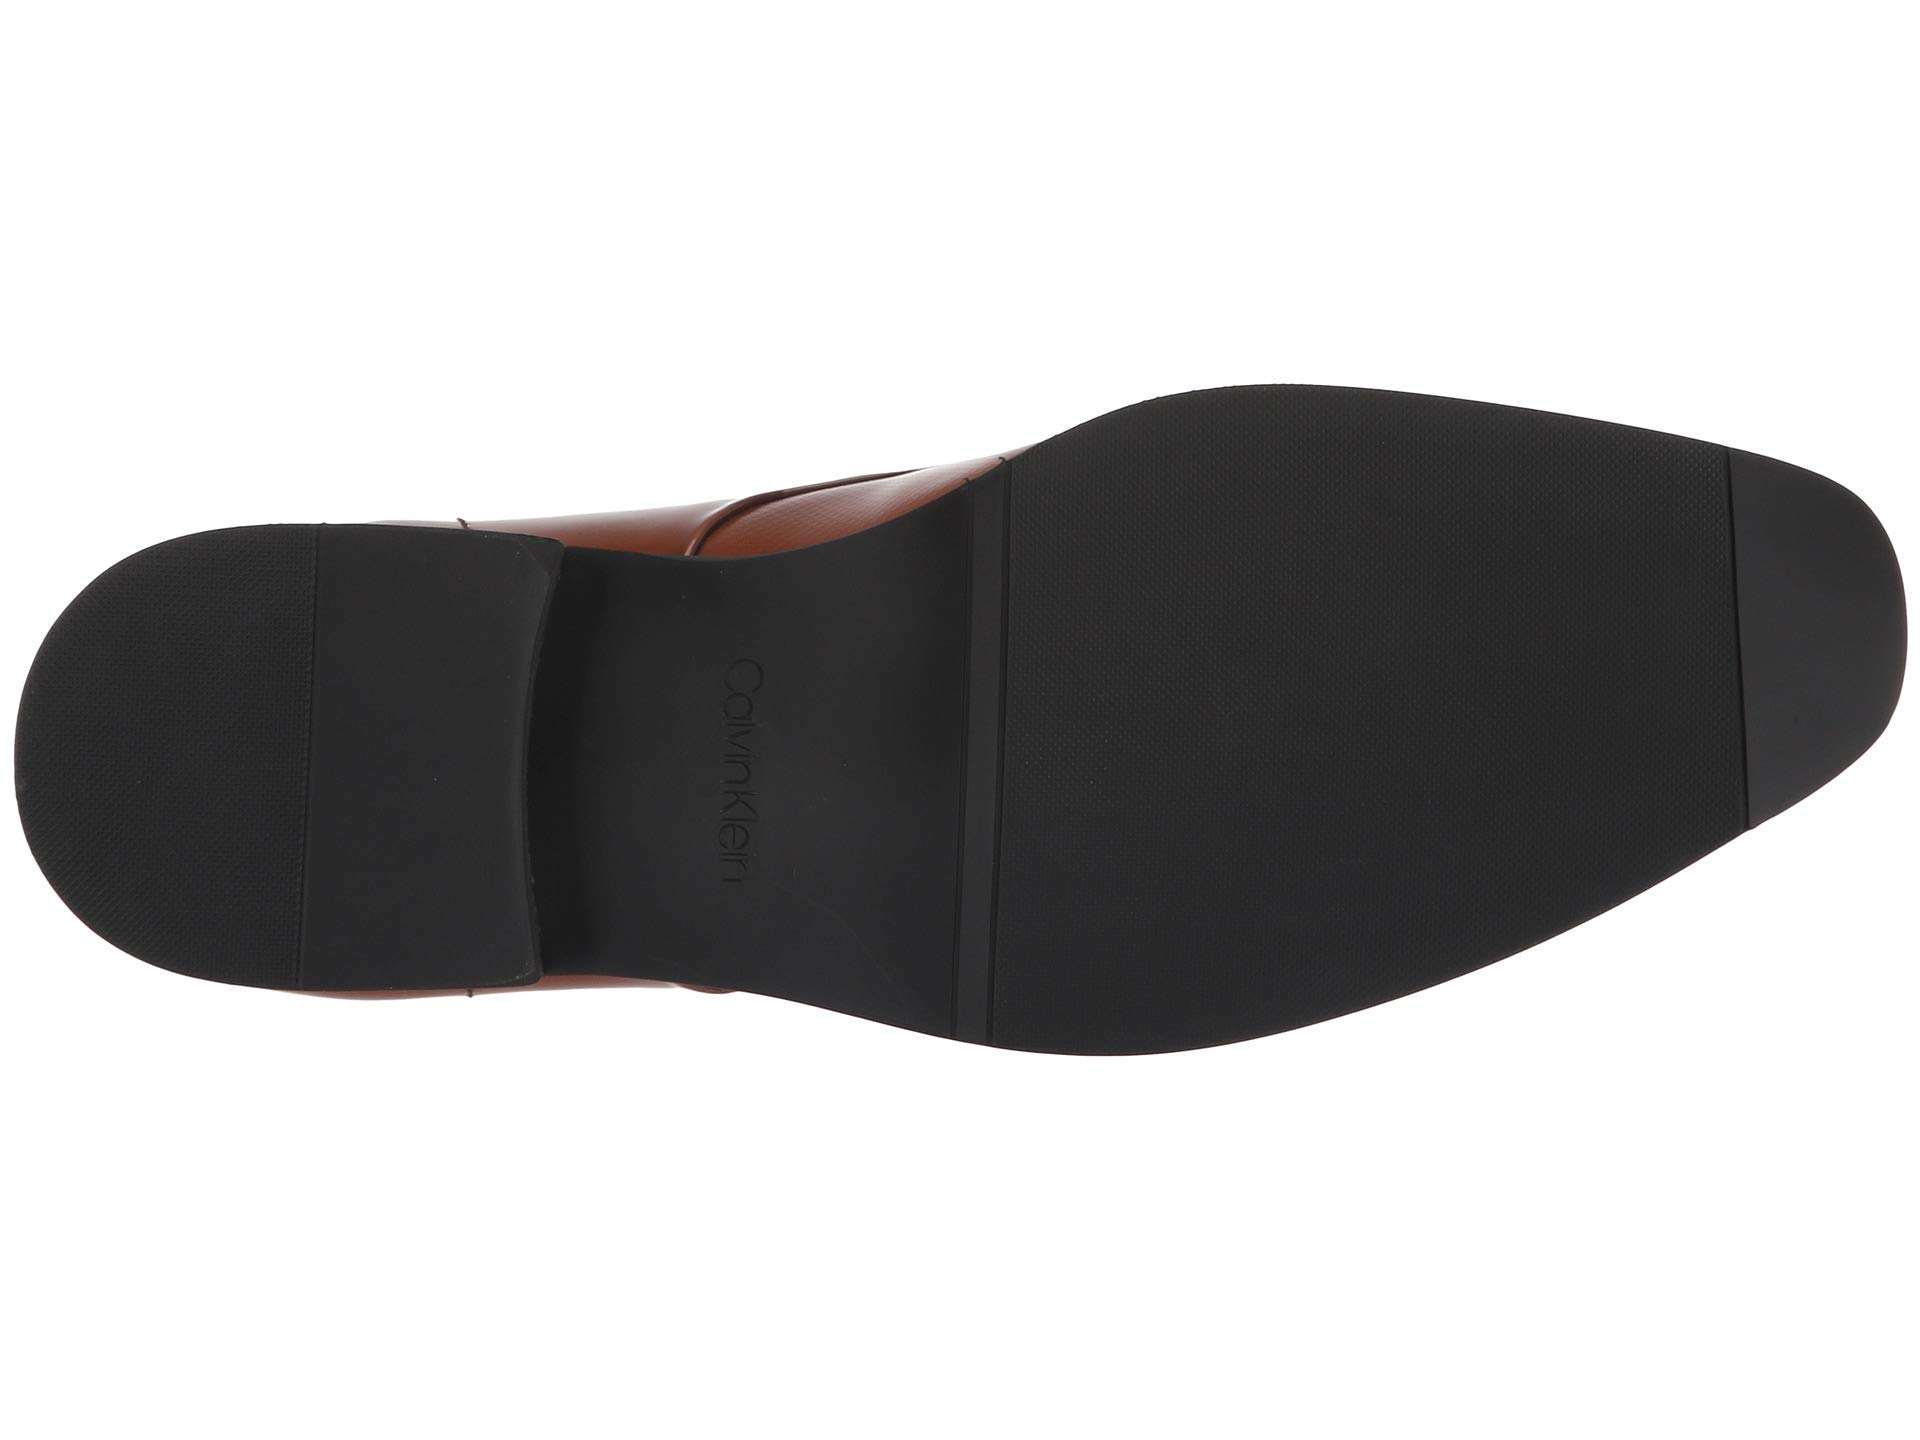line: (219, 579, 405, 929), (1663, 516, 1817, 761)
